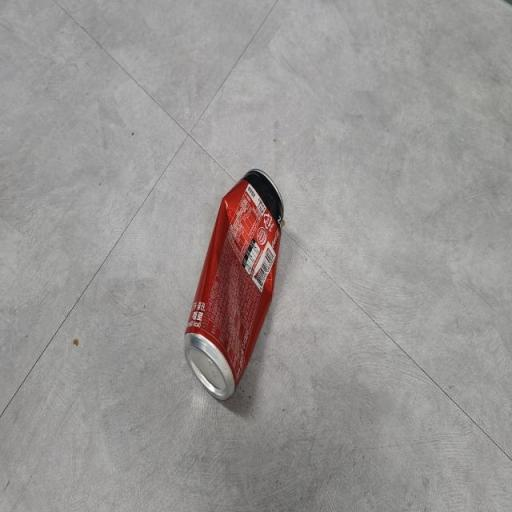metal: (180, 154, 290, 415)
